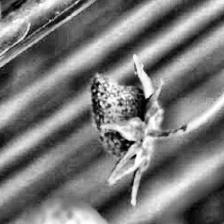Gray Mold: (90, 55, 169, 205)
